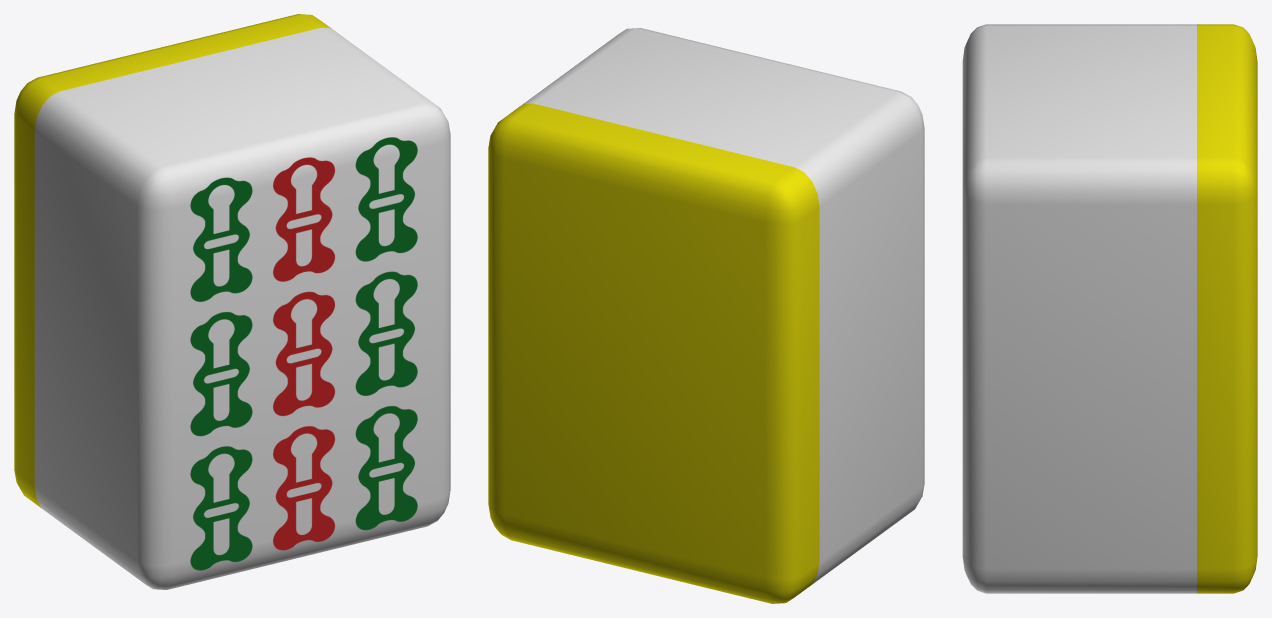
The model's file is sozu9.glb.
3 renders of one model, left to right at view 1: azimuth 30°, elevation 25°; view 2: azimuth 150°, elevation 25°; view 3: azimuth 270°, elevation 25°, orthographic. The views are drawn at different scales.
Parts seen in each view (by area): view 1: Cube, Cube.001; view 2: Cube; view 3: Cube.
Boxes of the visible parts, x1,y1,x2,y2 form: Cube: (14, 14, 450, 589); Cube.001: (190, 137, 417, 570); Cube: (488, 28, 924, 603); Cube: (962, 24, 1257, 593).
Size of the model in its own units: 2 by 2.6 by 1.6.
3 materials, 1 textured.
